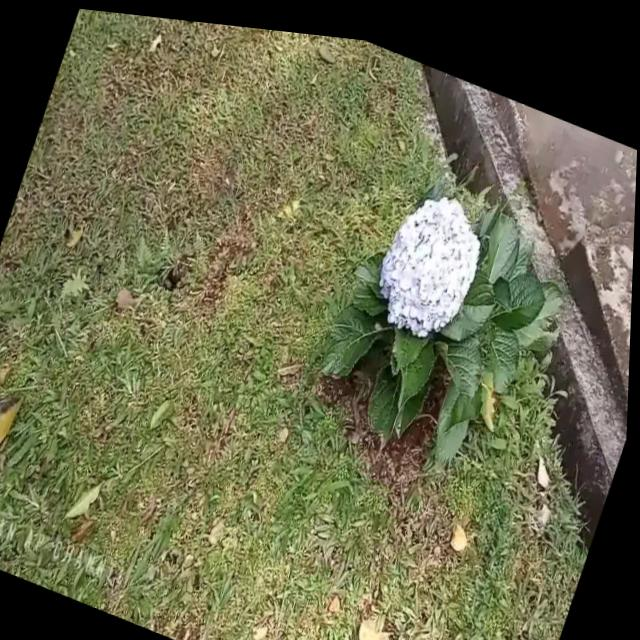Flower: (361, 163, 502, 350)
